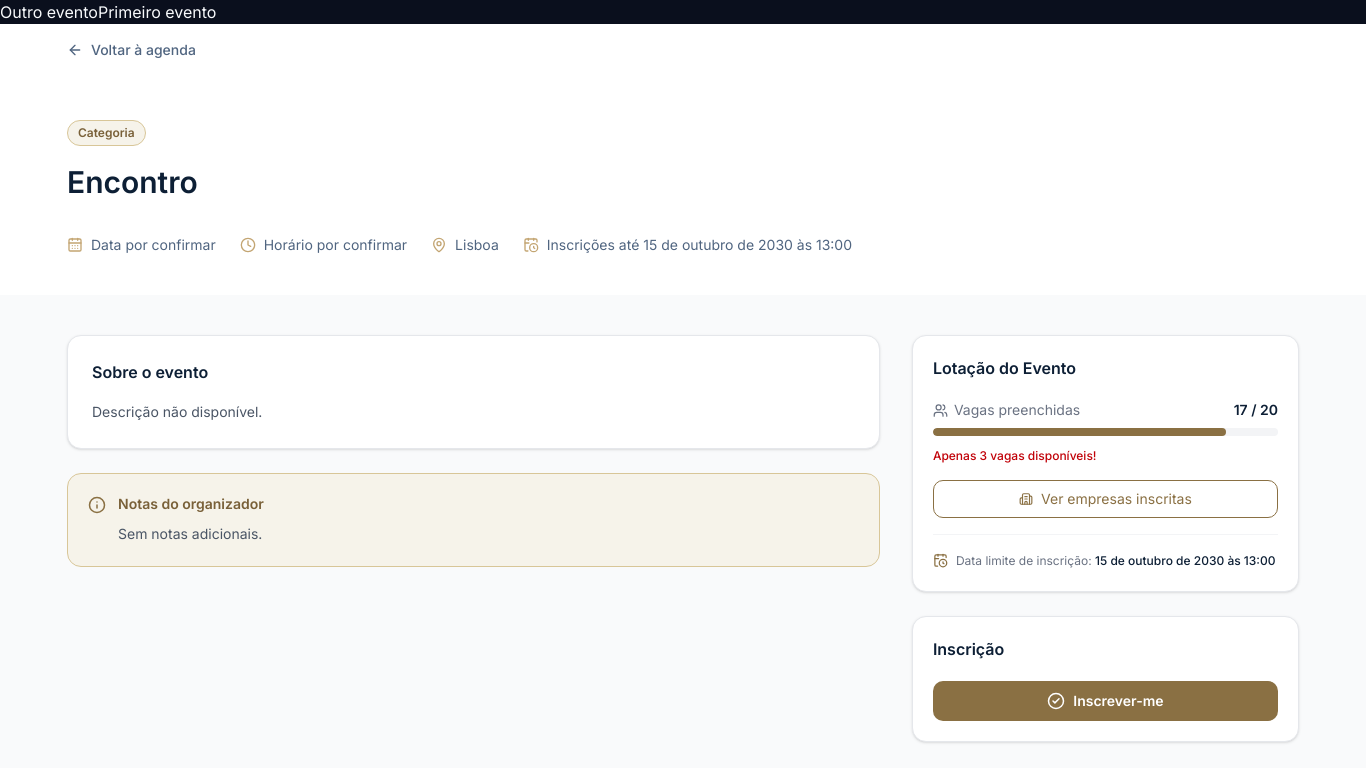
Test: Inscrição no detalhe do evento › confirma com foco seguro, permite Escape e só envia após confirmação
Click the button "Inscrever-me" at (1105, 701), box [933,681,1278,721]
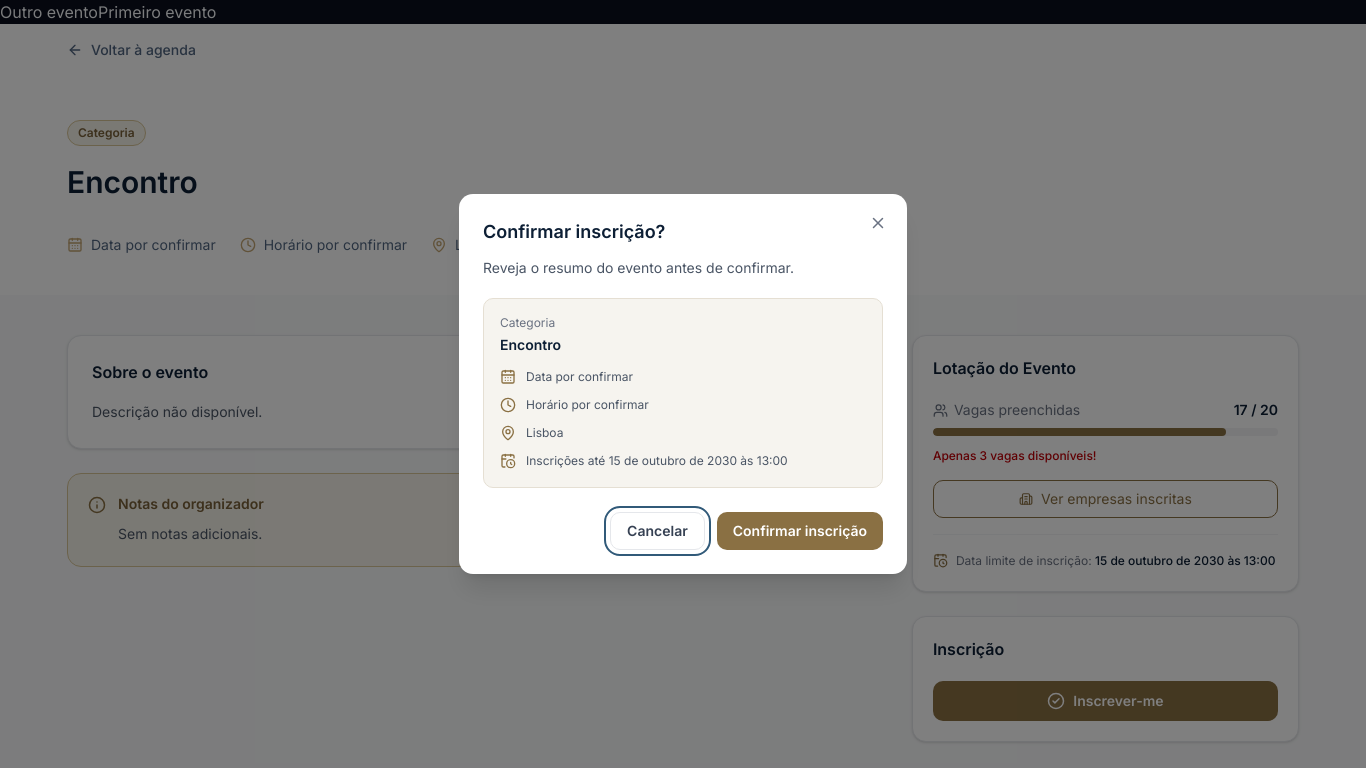
Press Escape
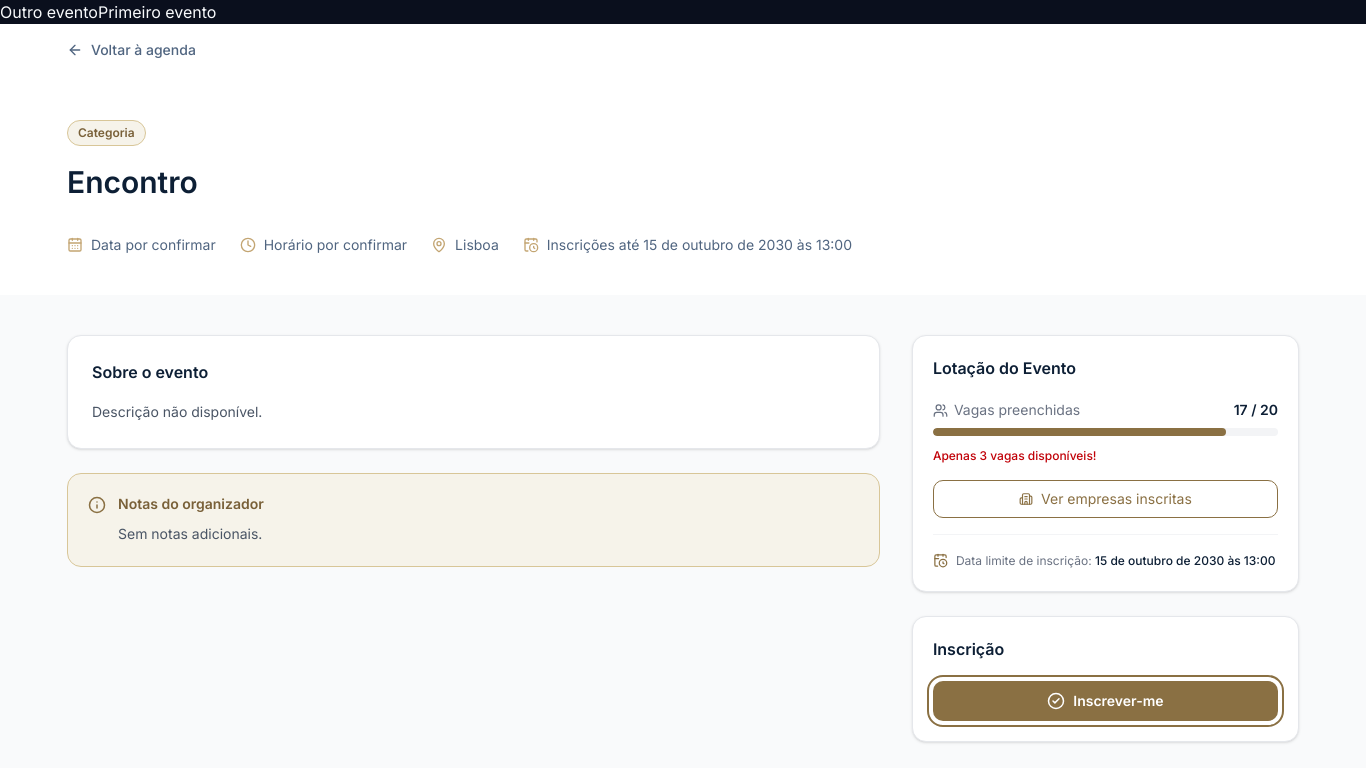
Now the dialog is gone
Click the button "Inscrever-me" at (1105, 701), box [933,681,1278,721]
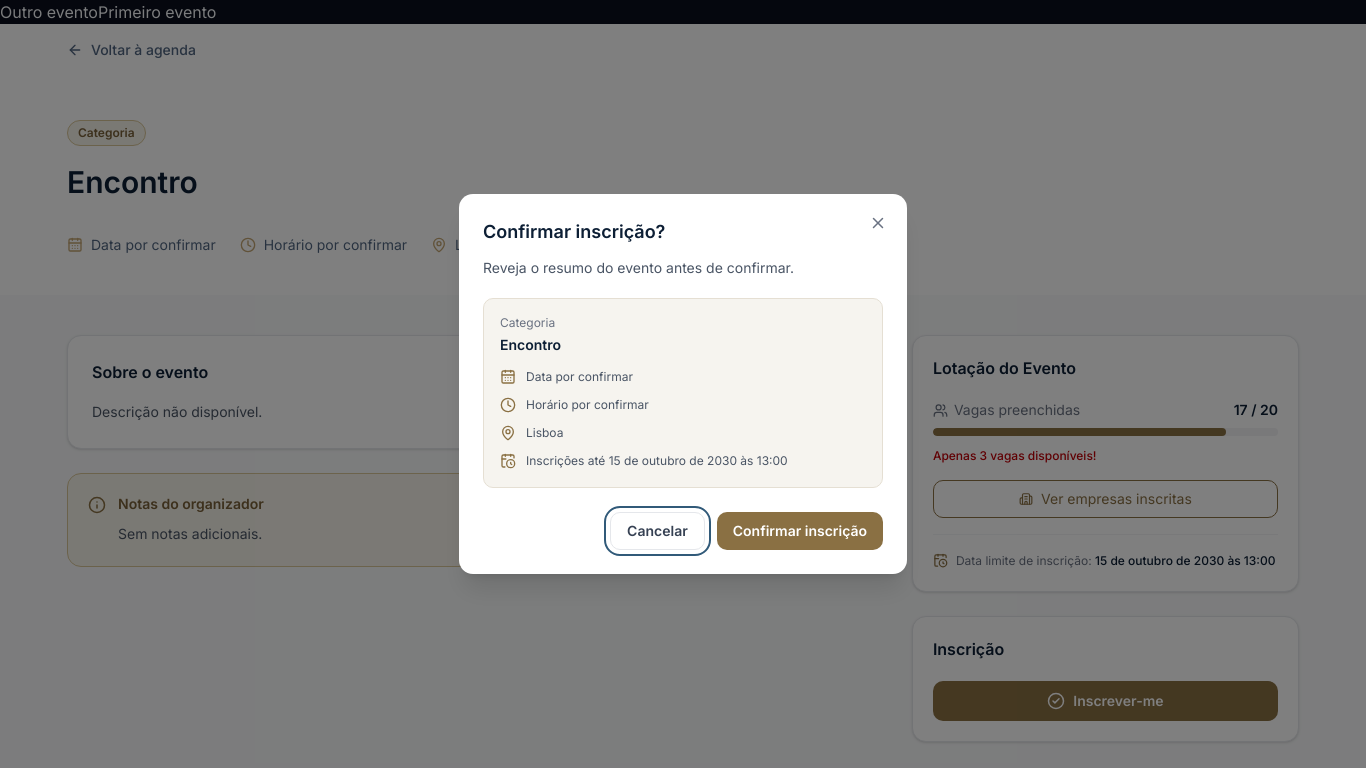
Click the button "Confirmar inscrição" at (800, 531), box [717,512,883,550]
(page scrolled)
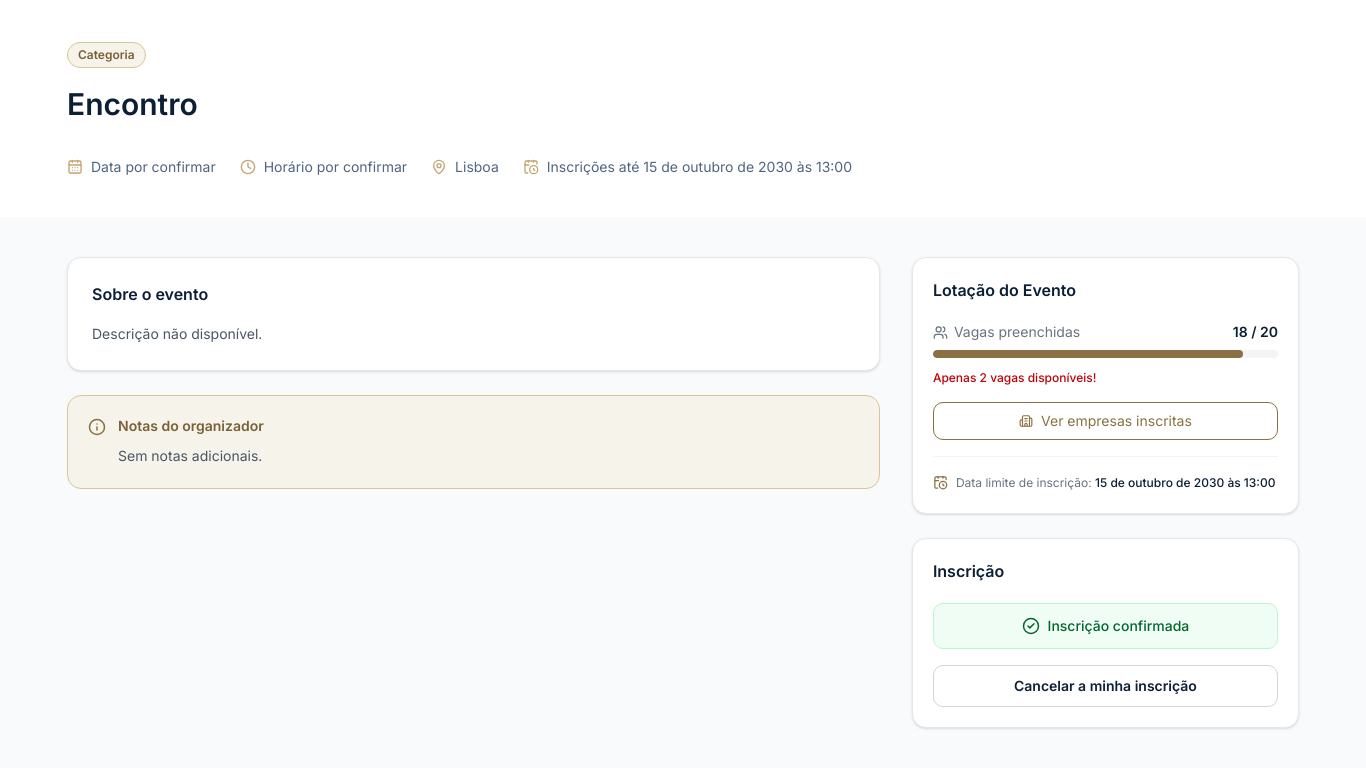
Now the text "18 / 20" is shown, box [1233,322,1278,342]
Now the text "Apenas 2 vagas disponíveis!" is shown, box [933,370,1096,385]
Now the button "Cancelar a minha inscrição" is shown, box [933,665,1278,707]
